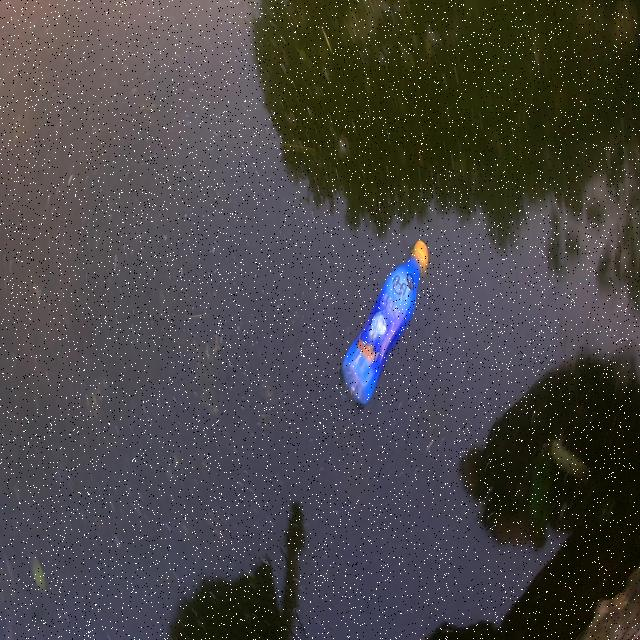Bottle: (336, 231, 429, 410)
